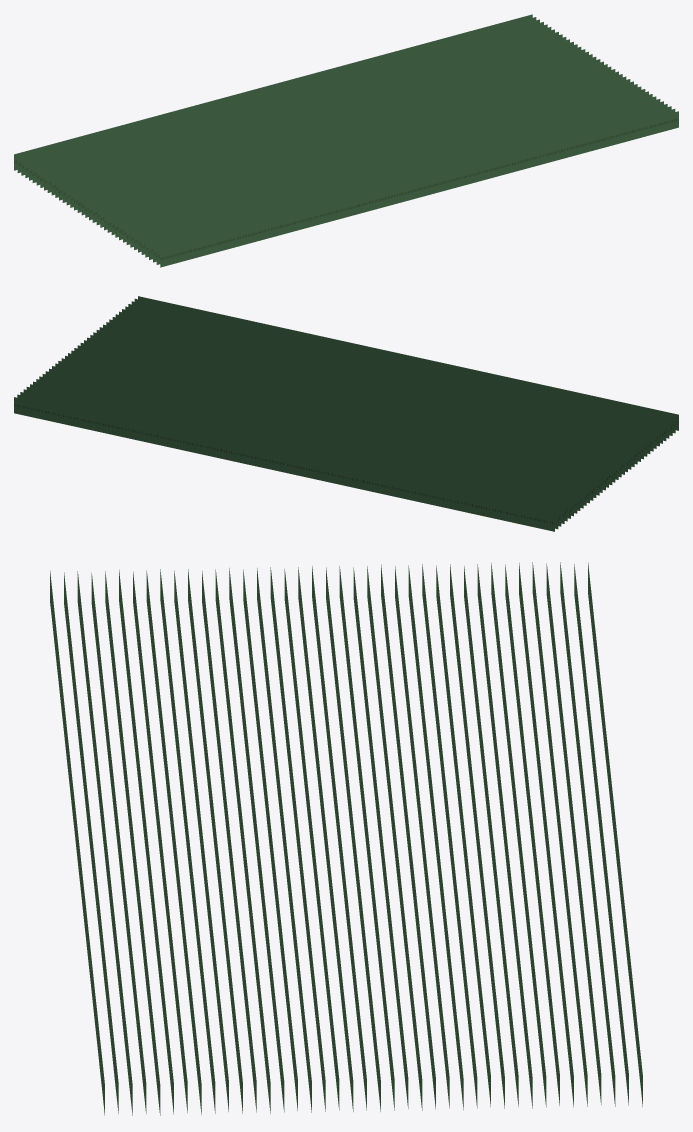
The model's file is Soja.glb.
3 renders of one model, top to bottom at view 1: azimuth 30°, elevation 25°; view 2: azimuth 150°, elevation 25°; view 3: azimuth 270°, elevation 25°, orthographic. The views are drawn at different scales.
Parts seen in each view (by area): view 1: Soja; view 2: Soja; view 3: Soja.
Part boxes in pixels (left/top/right/bottom): Soja: left=14, top=14, right=678, bottom=267; Soja: left=14, top=296, right=678, bottom=531; Soja: left=50, top=562, right=642, bottom=1115.
Size of the model in its own units: 79.45 by 2.29 by 37.91.
Materials: 1 (1 with a texture image).
